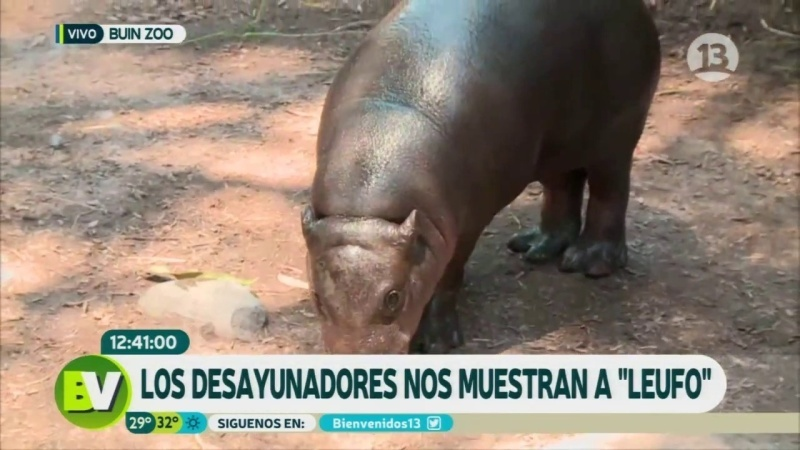hipopotamo: (284, 1, 674, 352)
